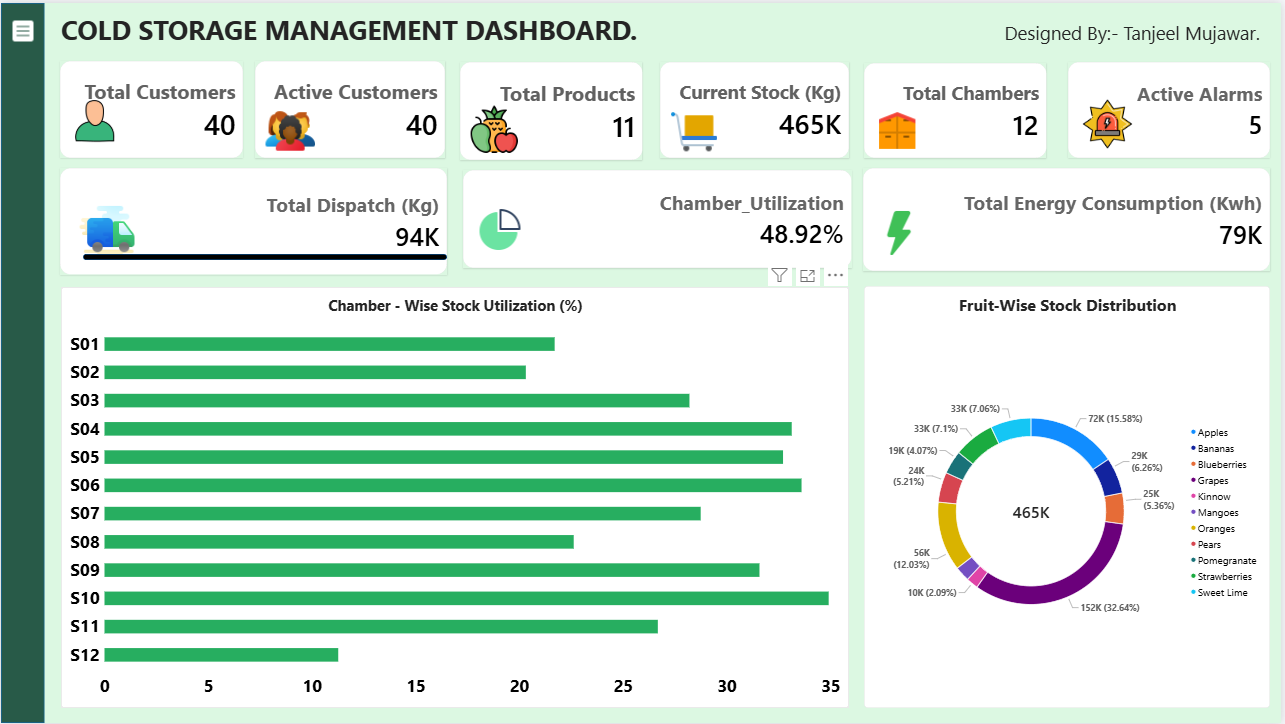

The dashboard page shown, as its layout file describes it:
{"tool":"powerbi","page":{"name":"Home Page","canvas":[2560,1440],"ordinal":0},"visuals":[{"type":"textbox","box":[120,16,2418,100],"z":0},{"type":"cardVisual","fields":{"Data":["T_Customers.Total Customers"]},"box":[118,116,366,194],"z":0,"group":"g8"},{"type":"cardVisual","fields":{"Data":["T_Inventory_Snapshot.Active Customers"]},"box":[508,116,381,194.9],"z":0,"group":"g1"},{"type":"cardVisual","fields":{"Data":["T_Products.Total Products"]},"box":[918,118,365,196.9],"z":0,"group":"g2"},{"type":"cardVisual","fields":{"Data":["T_Inventory_Snapshot.Current Stock (Kg)"]},"box":[1318,118,379,192.9],"z":0,"group":"g3"},{"type":"cardVisual","fields":{"Data":["T_Alarms.Active Alarms"]},"box":[2134,118,404,192],"z":0,"group":"g7"},{"type":"cardVisual","fields":{"Data":["T_Chambers.Total Chambers"]},"box":[1725.7,120,365,190.9],"z":0,"group":"g4"},{"type":"cardVisual","fields":{"Data":["T_Dispatches.Total Dispatch (Kg)"]},"box":[118,330,774.6,213.9],"z":0,"group":"g9"},{"type":"cardVisual","fields":{"Data":["T_Energy_Daily.Total Energy Consumption (Kwh)"]},"box":[1724,330,814.8,206.7],"z":0,"group":"g6"},{"type":"cardVisual","fields":{"Data":["T_Chambers.Chamber Utilization %"]},"box":[924,334,778,196.6],"z":0,"group":"g5"},{"type":"shape","box":[0,0,86.7,1440],"z":1000},{"type":"image","box":[120,186.4,135.4,99.3],"z":1000,"group":"g8"},{"type":"image","box":[2151.8,192.3,122.1,99.6],"z":1000,"group":"g7"},{"type":"image","box":[918,202,136.7,100.7],"z":1000,"group":"g2"},{"type":"image","box":[1724,204.3,136.7,97.7],"z":1000,"group":"g4"},{"type":"image","box":[1318,206.2,141.9,98.7],"z":1000,"group":"g3"},{"type":"image","box":[508,208.2,140.9,99.7],"z":1000,"group":"g1"},{"type":"image","box":[144,404,136.7,110],"z":1000,"group":"g9"},{"type":"actionButton","box":[2,16,84,80],"z":2000},{"type":"shape","box":[164,502,728,12.1],"z":2000,"group":"g9"},{"type":"group","id":"g1","title":"Group 2","box":[508,116,380,192],"z":3000},{"type":"group","id":"g2","title":"Group 4","box":[918,118,366,196],"z":4000},{"type":"group","id":"g3","title":"Group 5","box":[1318,118,378,192],"z":5000},{"type":"group","id":"g4","title":"Group 3","box":[1724,120,366,190],"z":6000},{"type":"group","id":"g5","title":"Group 6","box":[924,334,778,196.6],"z":7000},{"type":"group","id":"g6","title":"Group 8","box":[1724,330,814.8,206.7],"z":8000},{"type":"group","id":"g7","title":"Group 9","box":[2134,118,404,192],"z":9000},{"type":"clusteredBarChart","title":"Chamber - Wise Stock Utilization (%)","fields":{"Category":["T_Chamber_Daily.Chamber_ID"],"Y":["Avg(T_Chamber_Daily.Utilization_pct_in_%)"]},"box":[120,568,1576,842],"z":10000},{"type":"donutChart","title":"Fruit-Wise Stock Distribution","fields":{"Category":["T_Inventory_Snapshot.Fruit_Name"],"Y":["Sum(T_Inventory_Snapshot.Current_Qty_kg)"]},"box":[1726,566,812,844],"z":11000},{"type":"group","id":"g8","title":"Group 1","box":[118,116,366,194],"z":12000},{"type":"group","id":"g9","title":"Group 7","box":[118,330,774,214],"z":13000},{"type":"image","box":[936,408,118,96],"z":14000},{"type":"image","box":[1726,414,136,90],"z":15000}]}

Visuals, with their boxes in screenshot pixels (x1, y1, x2, y2), scaled from the page's 2560x1440 canvas onto the 1285x724 screenshot:
textbox: select_region(60, 8, 1274, 58)
cardVisual - T_Customers.Total Customers: select_region(59, 58, 243, 156)
cardVisual - T_Inventory_Snapshot.Active Customers: select_region(255, 58, 446, 156)
cardVisual - T_Products.Total Products: select_region(461, 59, 644, 158)
cardVisual - T_Inventory_Snapshot.Current Stock (Kg): select_region(662, 59, 852, 156)
cardVisual - T_Alarms.Active Alarms: select_region(1071, 59, 1274, 156)
cardVisual - T_Chambers.Total Chambers: select_region(866, 60, 1049, 156)
cardVisual - T_Dispatches.Total Dispatch (Kg): select_region(59, 166, 448, 273)
cardVisual - T_Energy_Daily.Total Energy Consumption (Kwh): select_region(865, 166, 1274, 270)
cardVisual - T_Chambers.Chamber Utilization %: select_region(464, 168, 854, 267)
shape: select_region(0, 0, 44, 723)
image: select_region(60, 94, 128, 144)
image: select_region(1080, 97, 1141, 147)
image: select_region(461, 102, 529, 152)
image: select_region(865, 103, 934, 152)
image: select_region(662, 104, 733, 153)
image: select_region(255, 105, 326, 155)
image: select_region(72, 203, 141, 258)
actionButton: select_region(1, 8, 43, 48)
shape: select_region(82, 252, 448, 258)
"Group 2" group: select_region(255, 58, 446, 155)
"Group 4" group: select_region(461, 59, 645, 158)
"Group 5" group: select_region(662, 59, 851, 156)
"Group 3" group: select_region(865, 60, 1049, 156)
"Group 6" group: select_region(464, 168, 854, 267)
"Group 8" group: select_region(865, 166, 1274, 270)
"Group 9" group: select_region(1071, 59, 1274, 156)
"Chamber - Wise Stock Utilization (%)" clusteredBarChart: select_region(60, 286, 851, 709)
"Fruit-Wise Stock Distribution" donutChart: select_region(866, 285, 1274, 709)
"Group 1" group: select_region(59, 58, 243, 156)
"Group 7" group: select_region(59, 166, 448, 274)
image: select_region(470, 205, 529, 253)
image: select_region(866, 208, 935, 253)
